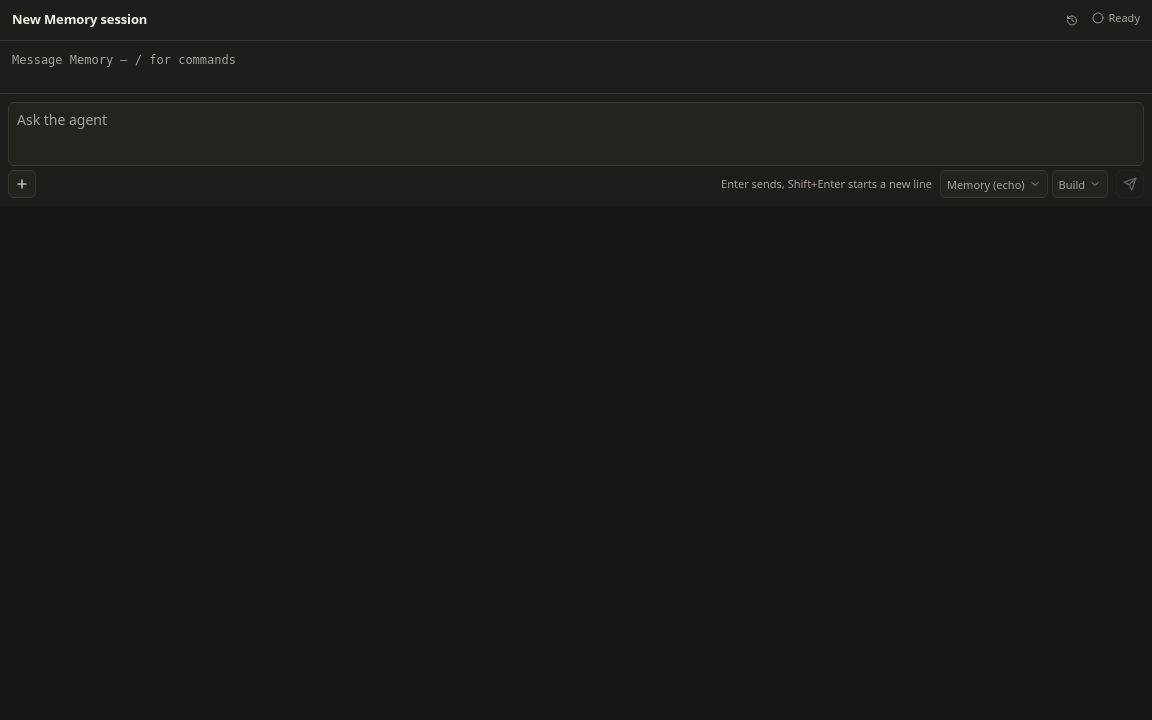
AgentPanel — where its popups land › renders the session list inside the element that carries the appearance
The image size is (1152, 720).
Click the button named "Sessions this engine holds".
click(1072, 20)  # box 1060,8 -> 1084,32
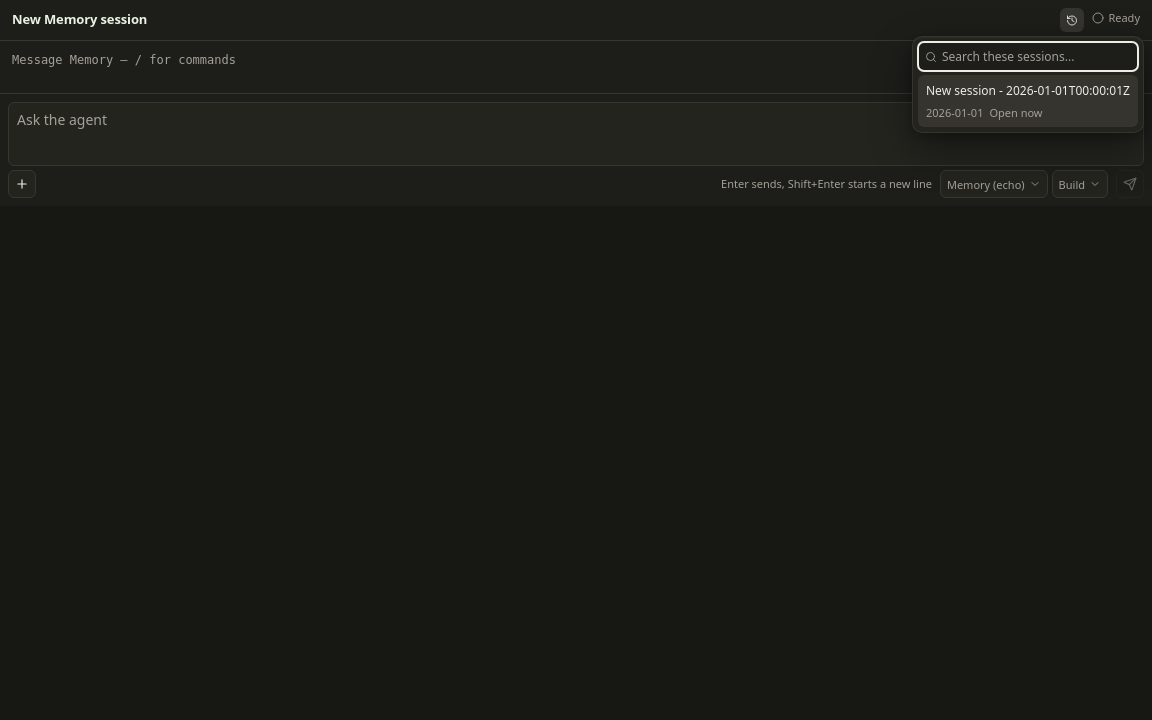
Expected: the element with class "agent-history-popup" is shown, 912,36 -> 1144,133
